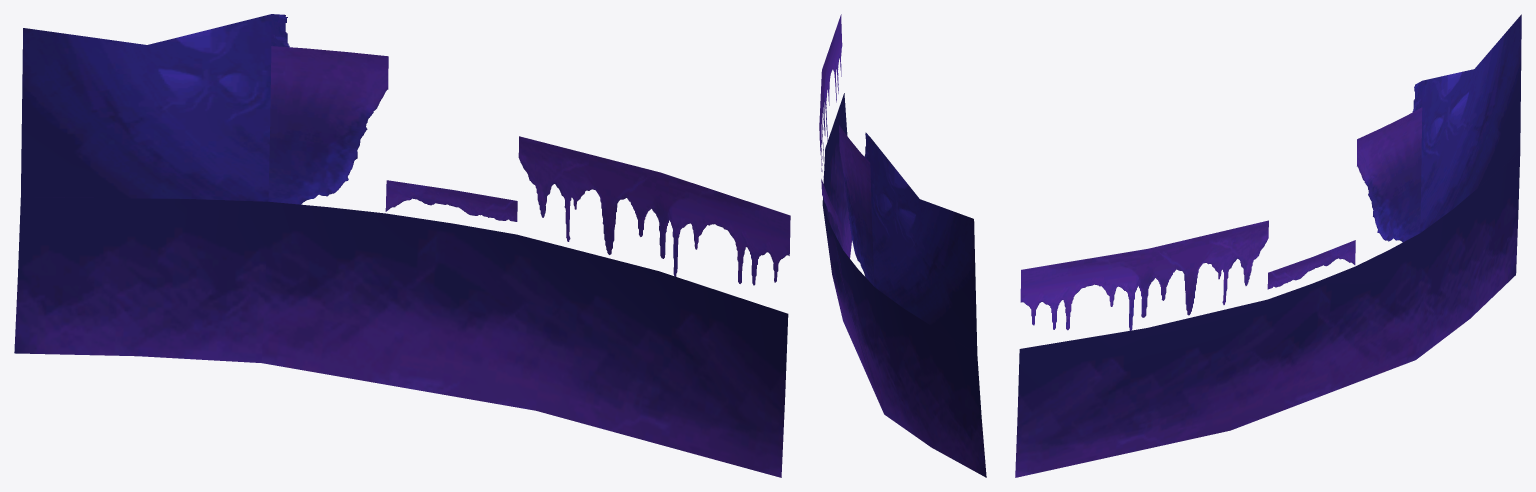
Rendered from SWORDLIGHT20_PS-AREA05-RANGE03_01.obj.
The picture shows the model from 3 angles, left to right: view 1: azimuth 30°, elevation 25°; view 2: azimuth 150°, elevation 25°; view 3: azimuth 270°, elevation 25°; orthographic projection. The views are drawn at different scales.
Visible parts, largest first — view 1: ea05-Range03_01; view 2: ea05-Range03_01; view 3: ea05-Range03_01.
Boxes of the visible parts, bbox=[...] form: ea05-Range03_01: bbox=[14, 14, 790, 477]; ea05-Range03_01: bbox=[819, 14, 986, 477]; ea05-Range03_01: bbox=[1015, 14, 1521, 477].
Size of the model in its own units: 3755 by 2621 by 4149.
